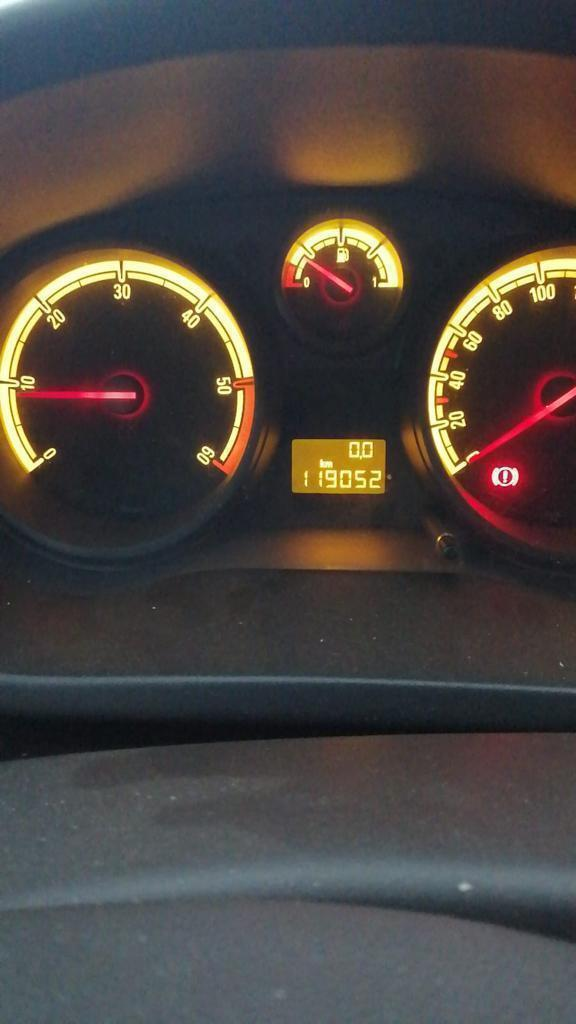,: (359, 454, 363, 460)
0: (339, 468, 352, 488), (348, 440, 360, 458), (361, 440, 373, 458)
1: (301, 469, 310, 489), (316, 469, 322, 489)
2: (368, 468, 383, 490)
5: (354, 468, 366, 489)
9: (324, 468, 337, 489)
X: (320, 457, 325, 468), (326, 460, 333, 467)
odometer: (290, 437, 388, 495)
